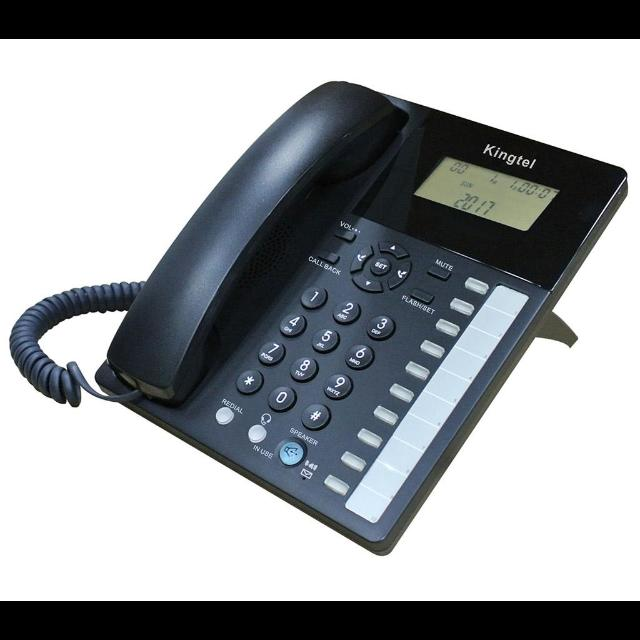Telephone-Set: (78, 81, 640, 601)
